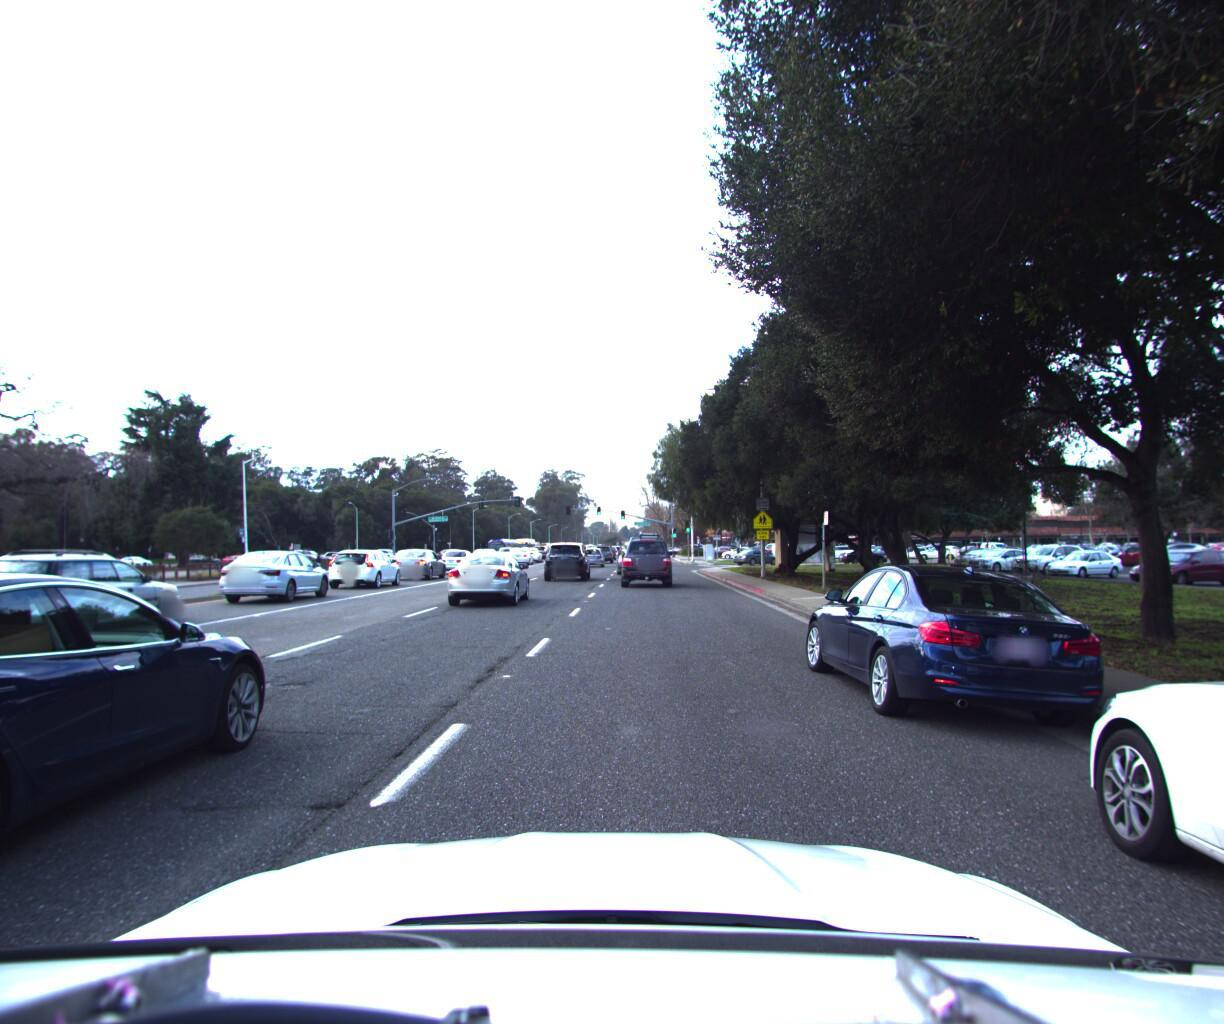car: (0, 554, 292, 1019), (1028, 564, 1224, 1024), (790, 550, 1133, 746), (0, 541, 196, 644), (211, 545, 336, 603), (441, 546, 534, 605), (322, 543, 406, 586), (620, 527, 672, 584), (390, 541, 451, 575), (543, 534, 591, 576), (435, 541, 481, 568), (726, 541, 775, 559), (505, 541, 534, 559), (583, 541, 607, 561), (593, 537, 614, 556), (530, 539, 552, 555)
